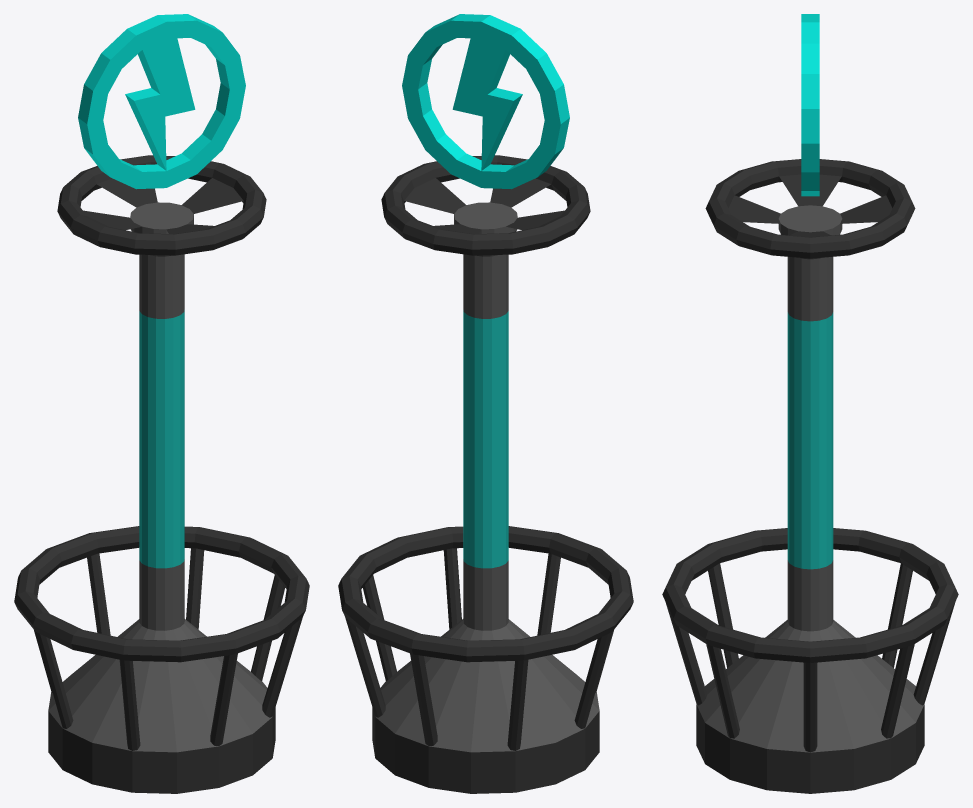
File: Connector.fbx
3 views of the same model, side by side, from view 1: azimuth 30°, elevation 25°; view 2: azimuth 150°, elevation 25°; view 3: azimuth 270°, elevation 25° (orthographic).
Parts seen in each view (by area): view 1: Cylinder.002, Cylinder.009; view 2: Cylinder.002, Cylinder.009; view 3: Cylinder.002, Cylinder.009.
Boxes of the visible parts, x1,y1,x2,y2 form: Cylinder.002: [14, 155, 309, 793]; Cylinder.009: [78, 14, 245, 189]; Cylinder.002: [338, 155, 633, 793]; Cylinder.009: [402, 14, 569, 189]; Cylinder.002: [662, 159, 958, 793]; Cylinder.009: [801, 14, 819, 196].
Size of the model in its own units: 130 by 350 by 130.
